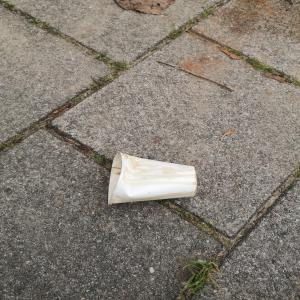Cup: (103, 150, 203, 209)
